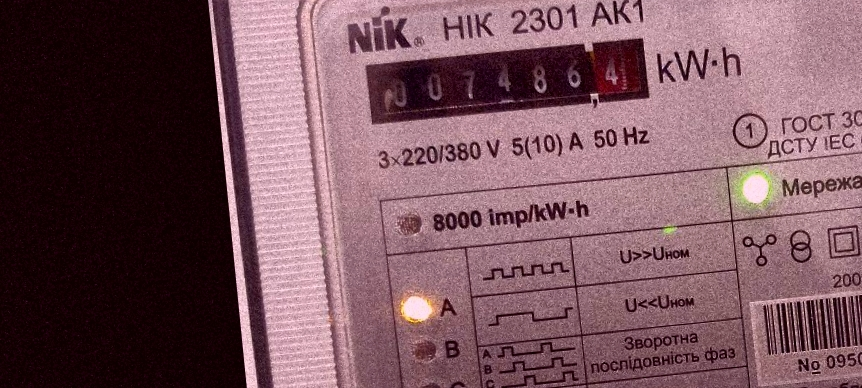0: (386, 74, 410, 110), (423, 68, 444, 103)
4: (491, 58, 513, 95), (599, 53, 620, 88)
6: (562, 56, 585, 90)
7: (455, 66, 481, 101)
8: (529, 61, 549, 97)
screen: (354, 24, 659, 137)
